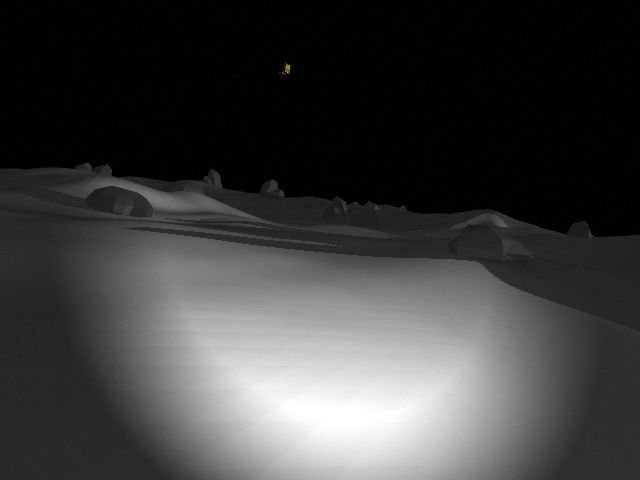cubesat: (275, 61, 294, 77)
